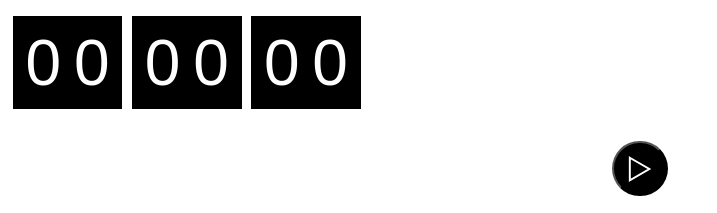
it: Stopwatch switches to running controls on click of start button
Click the button with alt text "start stopwatch" at (640, 169), box 612,141 -> 668,196
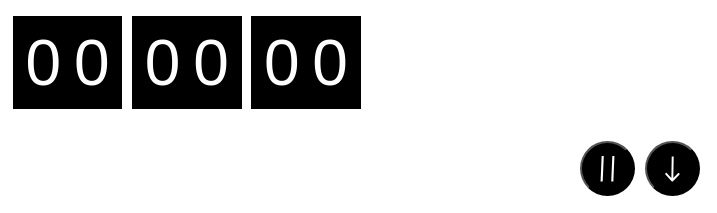
Now the picture with alt text "pause stopwatch" is shown, box 595,156 -> 620,182
Now the picture with alt text "note elapsed time" is shown, box 660,156 -> 685,182
